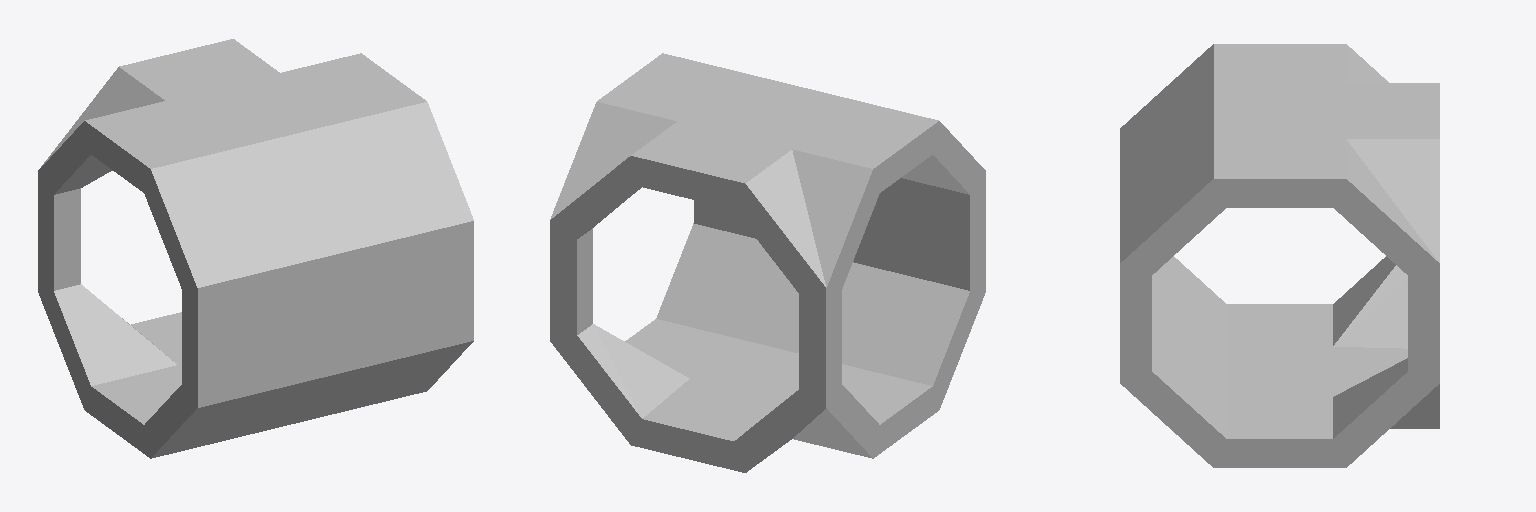
File: junction_horizontal.obj
The picture shows the model from 3 angles: view 1: azimuth 30°, elevation 25°; view 2: azimuth 150°, elevation 25°; view 3: azimuth 270°, elevation 25°; orthographic projection.
Visible parts, largest first — view 1: Cylinder.004_Cylinder.008; view 2: Cylinder.004_Cylinder.008; view 3: Cylinder.004_Cylinder.008.
Boxes of the visible parts, <box> form: Cylinder.004_Cylinder.008: <box>38,39,473,458</box>; Cylinder.004_Cylinder.008: <box>550,53,985,472</box>; Cylinder.004_Cylinder.008: <box>1120,44,1439,467</box>.
Size of the model in its own units: 1 by 1 by 1.